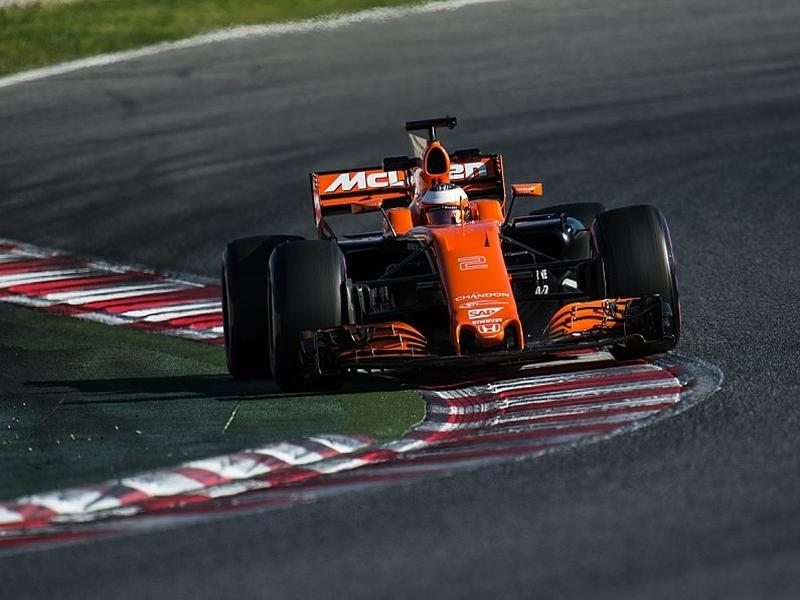racecar: (225, 121, 688, 382)
